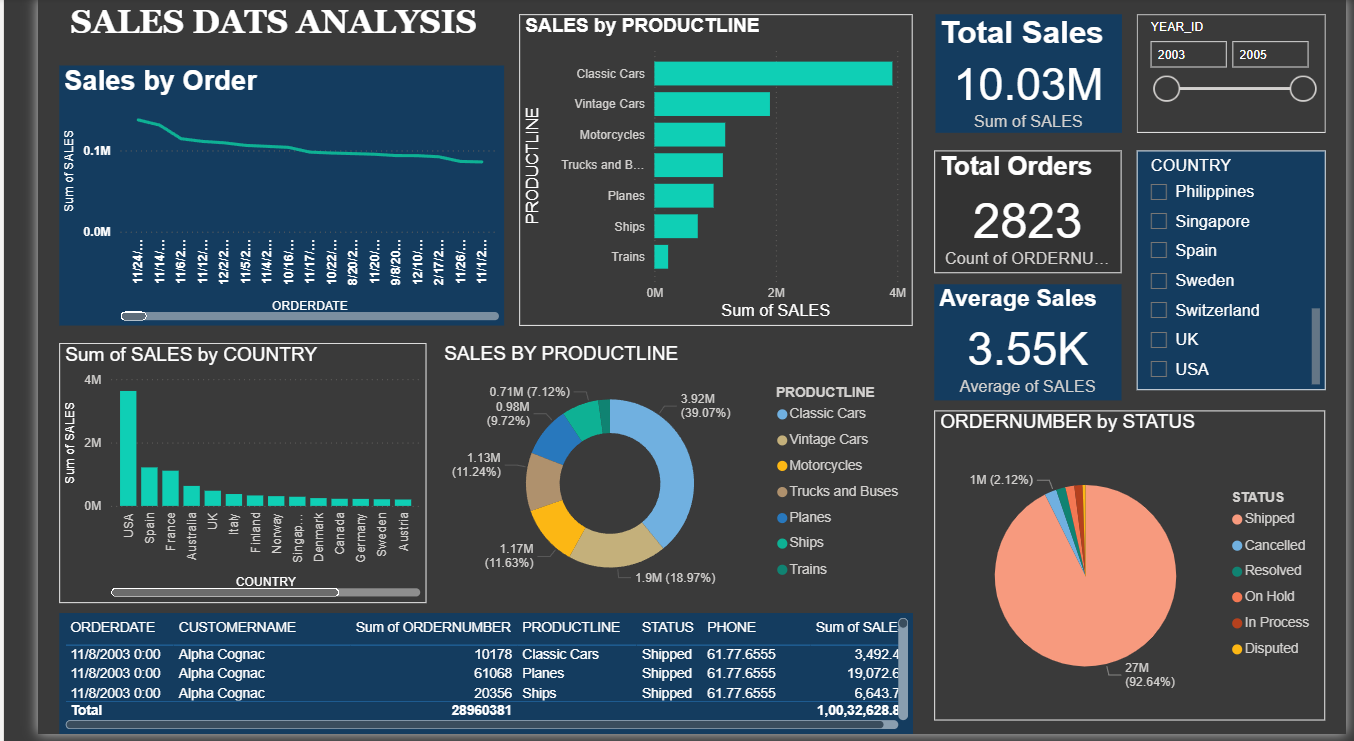

The page's visual inventory and layout, read from the dashboard file:
{"tool":"powerbi","page":{"name":"Page 1","canvas":[1280,720],"ordinal":0},"visuals":[{"type":"card","title":"Total Sales","fields":{"Values":["Sum(sales_data_sample.SALES)"]},"box":[878,15.9,182.2,116.2],"z":0},{"type":"card","title":"Total Orders","fields":{"Values":["CountNonNull(sales_data_sample.ORDERNUMBER)"]},"box":[876.8,149.2,183.4,119.8],"z":1},{"type":"card","title":"Average  Sales","fields":{"Values":["Avg(sales_data_sample.SALES)"]},"box":[876.8,280,183.4,113.7],"z":2},{"type":"lineChart","title":"Sales by Order","fields":{"Category":["sales_data_sample.ORDERDATE"],"Y":["Sum(sales_data_sample.SALES)"]},"box":[20.8,66,435.3,254.3],"z":3},{"type":"barChart","title":"SALES by PRODUCTLINE","fields":{"Category":["sales_data_sample.PRODUCTLINE"],"Y":["Sum(sales_data_sample.SALES)"]},"box":[470.8,15.9,385.2,304.5],"z":4},{"type":"slicer","fields":{"Values":["sales_data_sample.YEAR_ID"]},"box":[1074.9,15.9,184.6,116.2],"z":5},{"type":"columnChart","fields":{"Category":["sales_data_sample.COUNTRY"],"Y":["Sum(sales_data_sample.SALES)"]},"box":[20.8,337.5,359.5,254.3],"z":6},{"type":"donutChart","title":"SALES BY PRODUCTLINE","fields":{"Category":["sales_data_sample.PRODUCTLINE"],"Y":["Sum(sales_data_sample.SALES)"]},"box":[392.5,337.5,463.5,254.3],"z":7},{"type":"slicer","fields":{"Values":["sales_data_sample.COUNTRY"]},"box":[1074.9,149.2,184.6,234.8],"z":8},{"type":"tableEx","fields":{"Values":["sales_data_sample.ORDERDATE","sales_data_sample.CUSTOMERNAME","Sum(sales_data_sample.ORDERNUMBER)","sales_data_sample.PRODUCTLINE","sales_data_sample.STATUS","sales_data_sample.PHONE","Sum(sales_data_sample.SALES)"]},"box":[20.8,601.6,835.2,118.6],"z":9},{"type":"pieChart","title":"ORDERNUMBER by STATUS","fields":{"Category":["sales_data_sample.STATUS"],"Y":["Sum(sales_data_sample.ORDERNUMBER)"]},"box":[876.8,403.5,382.7,303.3],"z":10},{"type":"textbox","box":[26.9,0,423.1,50.1],"z":11}]}

Visuals, with their boxes in screenshot pixels (x1, y1, x2, y2), scaled from the page's 1280x720 canvas onto the 1354x741 screenshot:
"Total Sales" card: BBox(929, 16, 1121, 136)
"Total Orders" card: BBox(927, 154, 1121, 277)
"Average  Sales" card: BBox(927, 288, 1121, 405)
"Sales by Order" lineChart: BBox(22, 68, 482, 330)
"SALES by PRODUCTLINE" barChart: BBox(498, 16, 905, 330)
slicer - sales_data_sample.YEAR_ID: BBox(1137, 16, 1332, 136)
columnChart - sales_data_sample.COUNTRY x Sum(sales_data_sample.SALES): BBox(22, 347, 402, 609)
"SALES BY PRODUCTLINE" donutChart: BBox(415, 347, 905, 609)
slicer - sales_data_sample.COUNTRY: BBox(1137, 154, 1332, 395)
tableEx - sales_data_sample.ORDERDATE x sales_data_sample.CUSTOMERNAME: BBox(22, 619, 905, 740)
"ORDERNUMBER by STATUS" pieChart: BBox(927, 415, 1332, 727)
textbox: BBox(28, 0, 476, 52)
